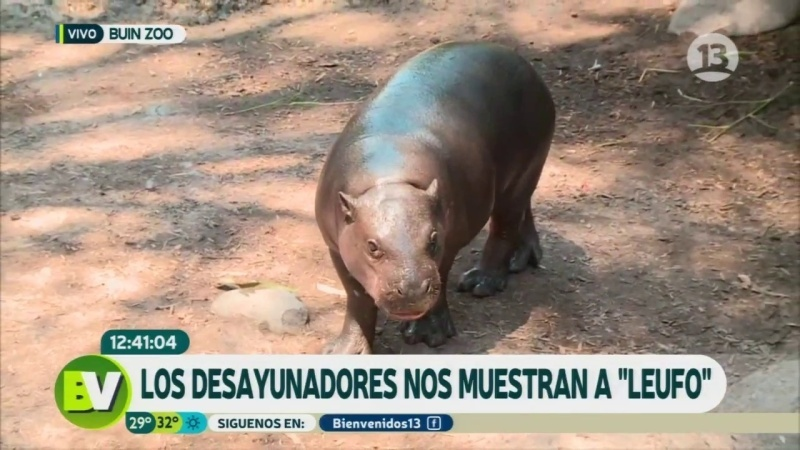hipopotamo: (292, 32, 588, 354)
